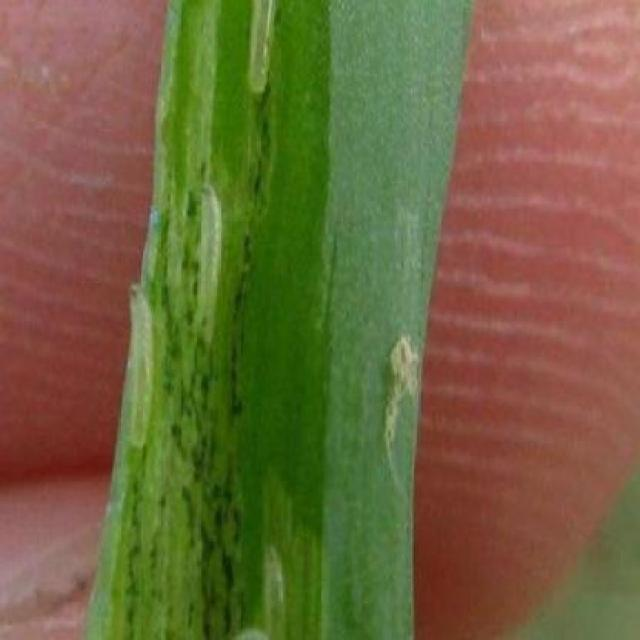whorl-maggot: (123, 277, 155, 458), (192, 174, 222, 358), (243, 0, 275, 103), (256, 544, 289, 640)
